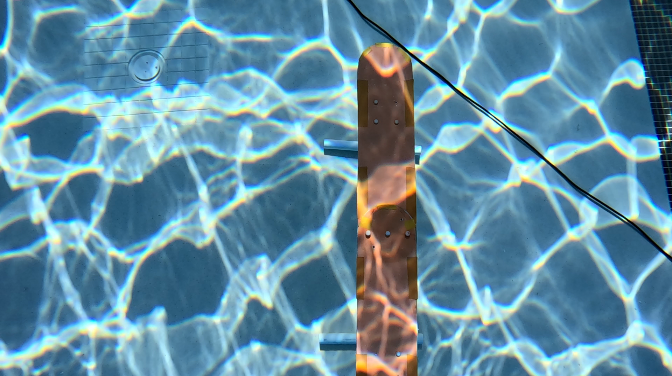pathmarker: (358, 43, 416, 375)
